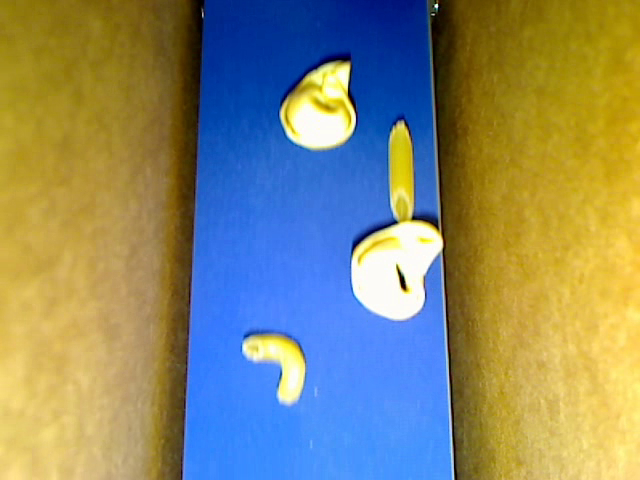elbow: (241, 334, 307, 407)
penne: (388, 120, 416, 223)
tortellini: (351, 219, 443, 320), (278, 60, 356, 150)
